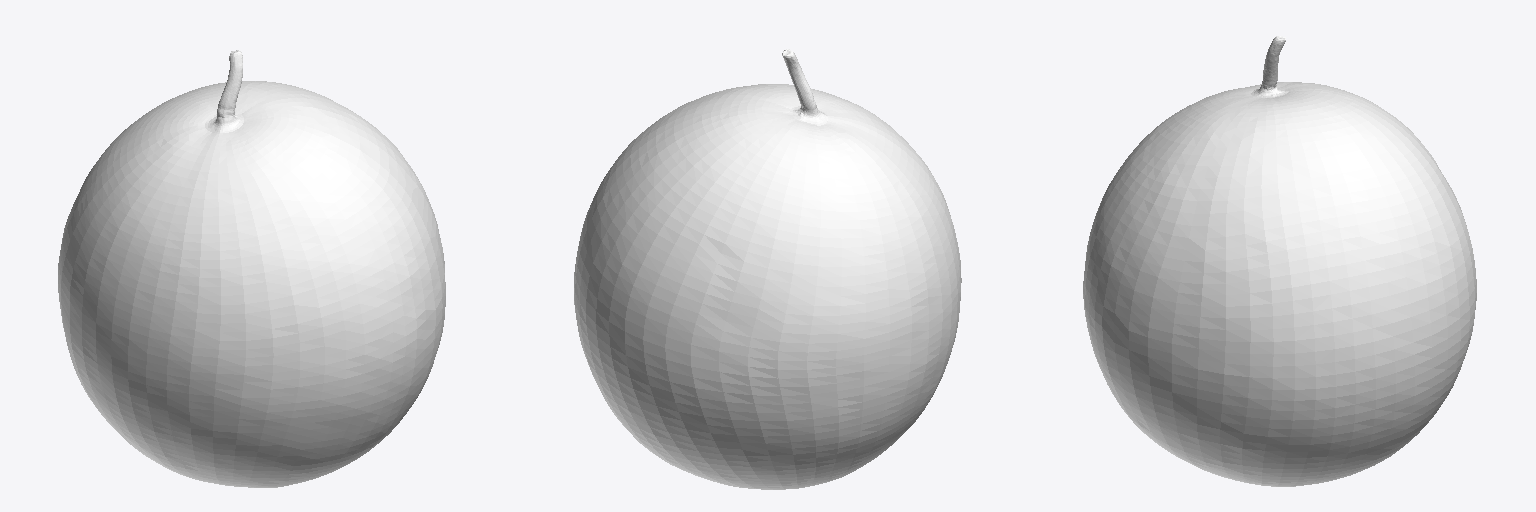
The model's file is watermelon.obj.
3 renders of one model, left to right at view 1: azimuth 30°, elevation 25°; view 2: azimuth 150°, elevation 25°; view 3: azimuth 270°, elevation 25°, orthographic.
Visible parts, largest first — view 1: watermelon; view 2: watermelon; view 3: watermelon.
Boxes of the visible parts, box(x1,y1,x2,y2) form: watermelon: box(58, 50, 445, 487); watermelon: box(574, 49, 961, 489); watermelon: box(1083, 36, 1476, 486).
Bounding box in the file's own units: 0.3412 × 0.4092 × 0.3474.